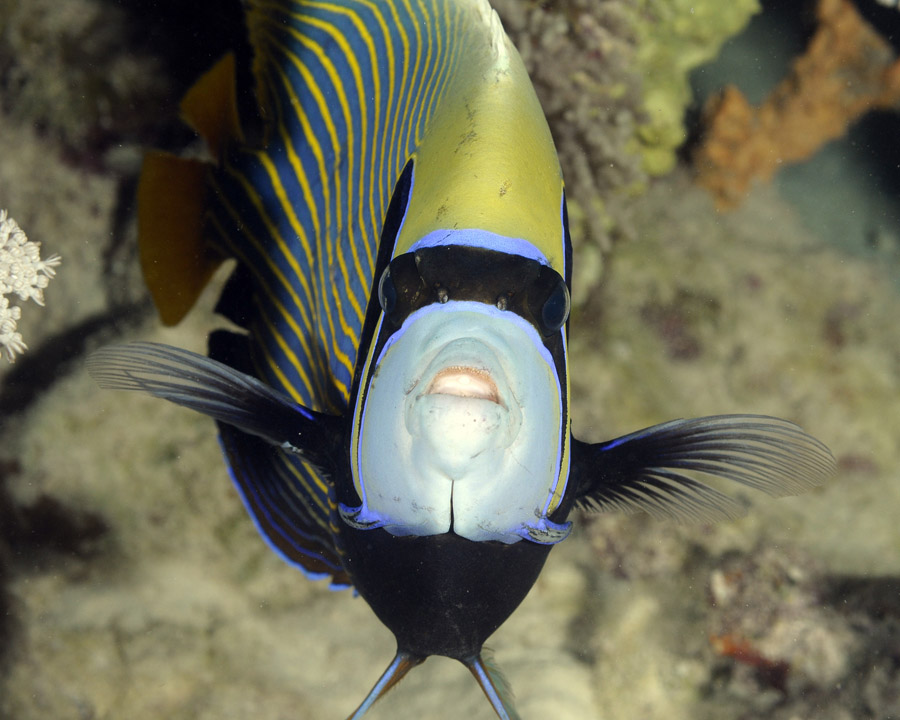Pomacanthus_imperator: (100, 1, 816, 697)
